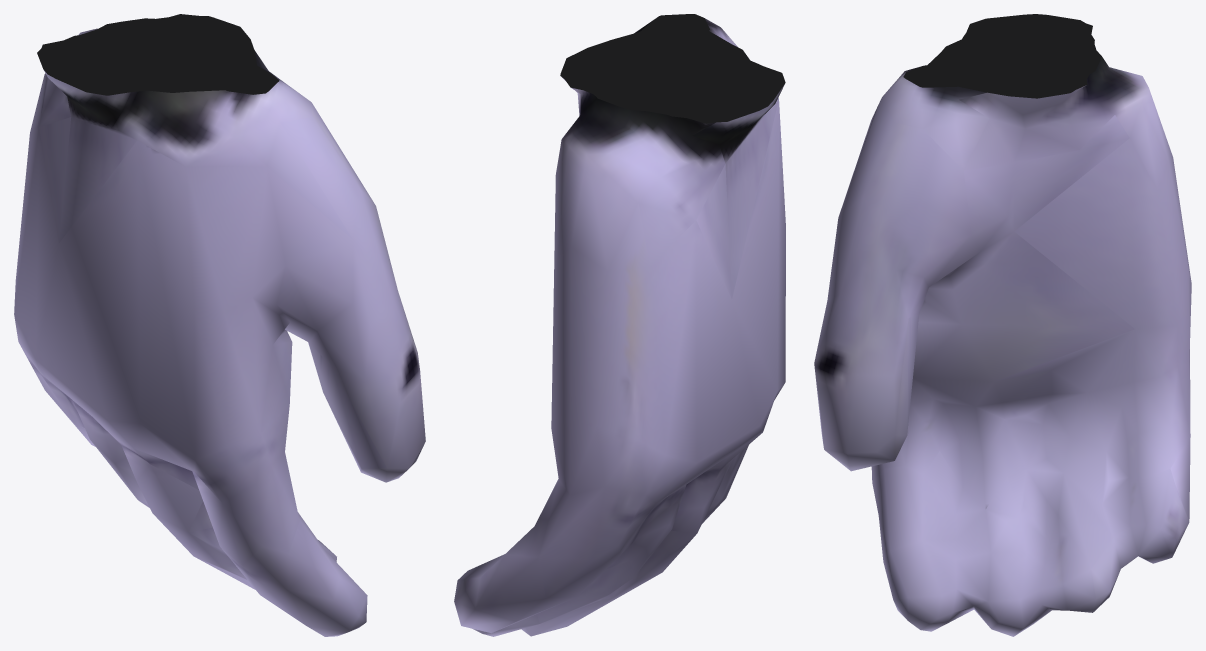
File: DummyHandR.obj
The picture shows the model from 3 angles, left to right: view 1: azimuth 30°, elevation 25°; view 2: azimuth 150°, elevation 25°; view 3: azimuth 270°, elevation 25°; orthographic projection. The views are drawn at different scales.
Bounding box in the file's own units: 1.5 × 2.97 × 1.96.
1 material, 1 textured.
